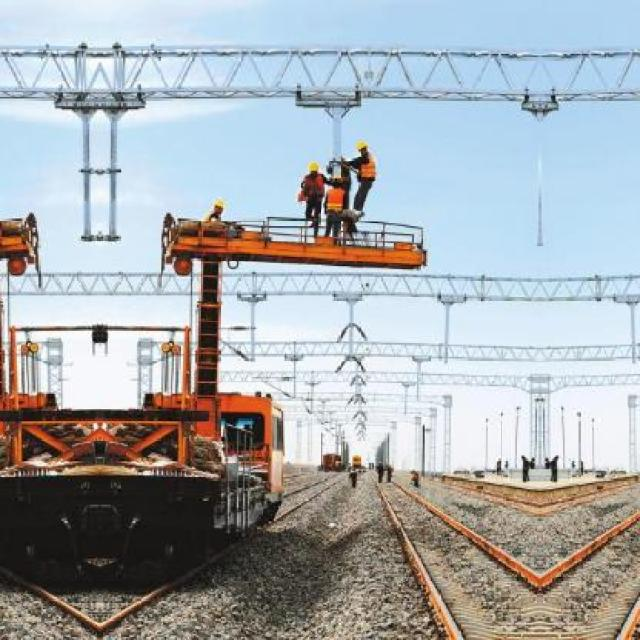helmet: (354, 137, 372, 158), (210, 195, 227, 217), (306, 159, 320, 179)
